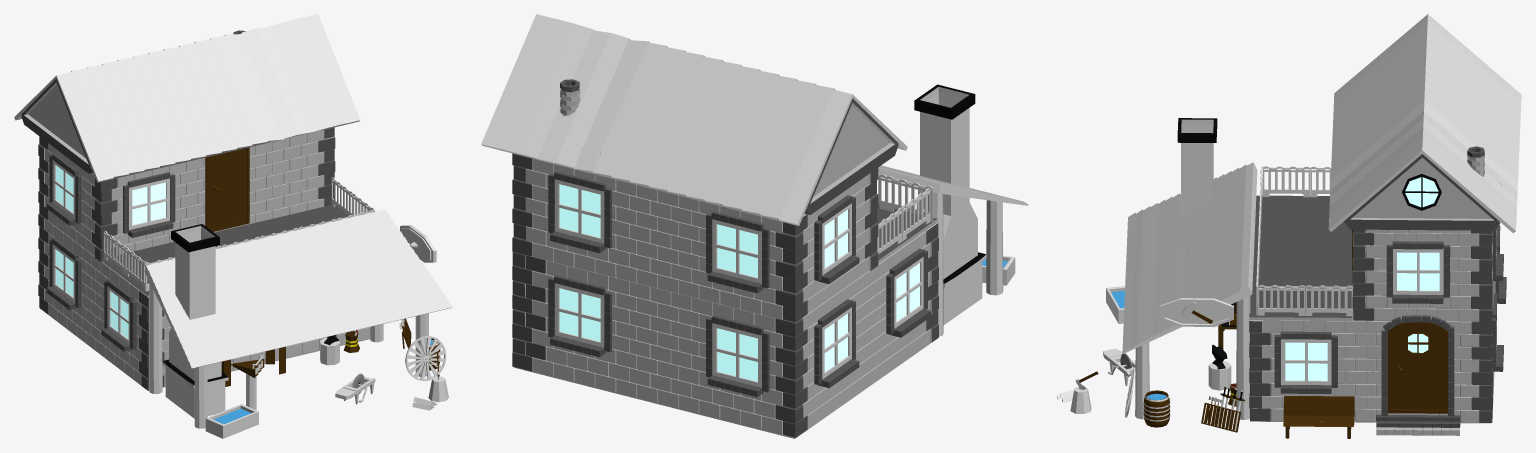
The model's file is ForgeC.fbx.
The picture shows the model from 3 angles, left to right: view 1: azimuth 30°, elevation 25°; view 2: azimuth 150°, elevation 25°; view 3: azimuth 270°, elevation 25°; orthographic projection. The views are drawn at different scales.
Visible parts, largest first — view 1: Forge, Bake, trough, wheel, stump, blacksmith sign, fan, grindstone, table; view 2: Forge, Bake; view 3: Forge, Bake, bench.001, blacksmith sign, stump, barrel.001, rack, grindstone, trough.
Boxes of the visible parts, left/top/right/bottom form: Forge: left=14, top=14, right=452, bottom=428; Bake: left=162, top=224, right=228, bottom=418; trough: left=205, top=404, right=258, bottom=438; wheel: left=405, top=336, right=446, bottom=381; stump: left=320, top=338, right=448, bottom=402; blacksmith sign: left=400, top=225, right=436, bottom=262; fan: left=230, top=355, right=264, bottom=410; grindstone: left=335, top=373, right=375, bottom=404; table: left=221, top=347, right=285, bottom=386; Forge: left=481, top=14, right=1028, bottom=438; Bake: left=914, top=84, right=986, bottom=324; Forge: left=1122, top=14, right=1521, bottom=435; Bake: left=1177, top=118, right=1217, bottom=215; bench.001: left=1283, top=396, right=1354, bottom=438; blacksmith sign: left=1160, top=298, right=1233, bottom=326; stump: left=1070, top=361, right=1231, bottom=413; barrel.001: left=1143, top=390, right=1170, bottom=427; rack: left=1201, top=402, right=1240, bottom=432; grindstone: left=1103, top=348, right=1135, bottom=385; trough: left=1106, top=286, right=1125, bottom=323.
Size of the model in its own units: 2487 by 2236 by 3283.
